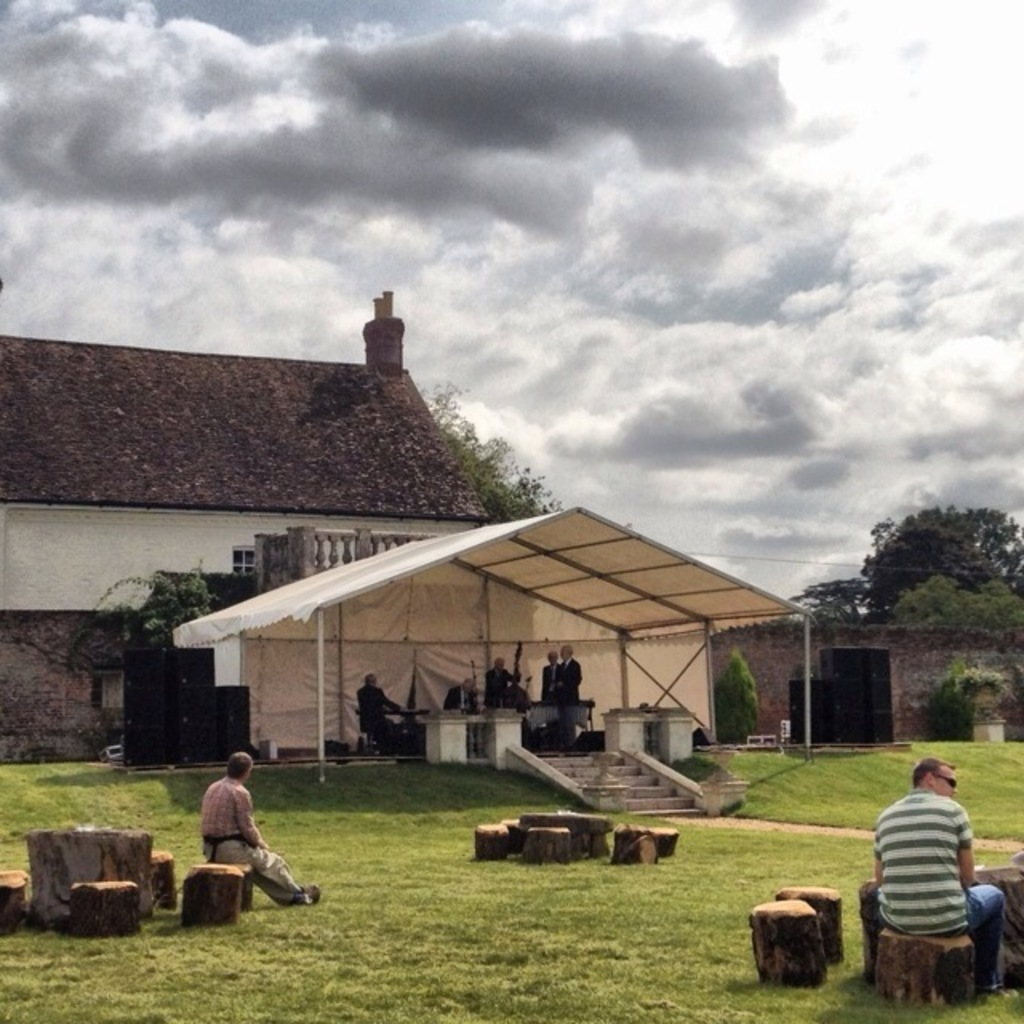Tree: (790, 500, 1024, 625), (422, 379, 564, 521), (712, 648, 762, 745)
